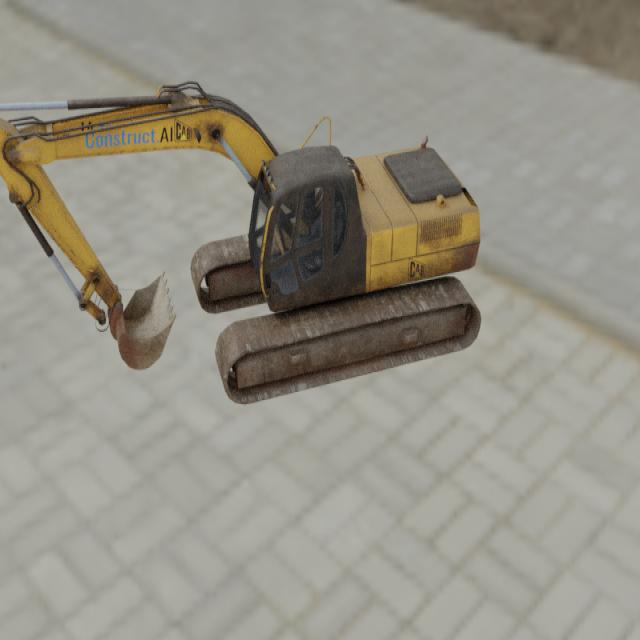excavator: (0, 80, 482, 405)
